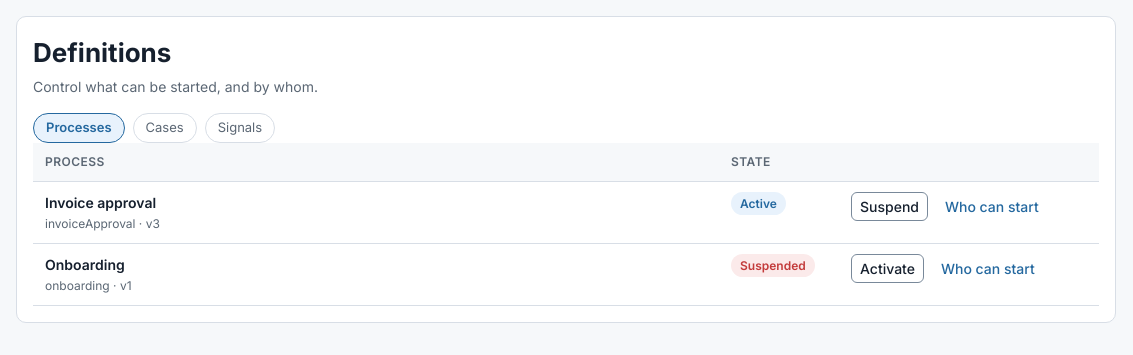
Test: Definitions — cases › offers no suspend control, and says why
Step 1. Click the tab "Cases" → (165, 128), box x1=133 y1=113 x2=197 y2=142
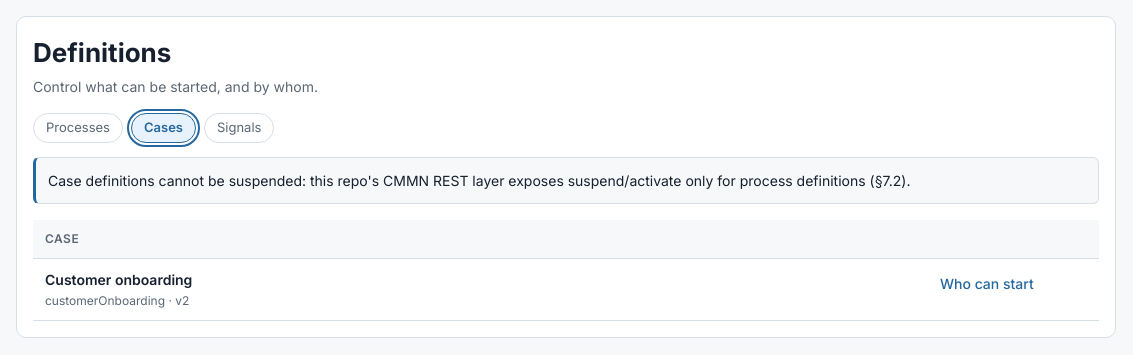
Check: the text "Customer onboarding" is shown, box x1=45 y1=270 x2=192 y2=288
Check: the text "cannot be suspended" is shown, box x1=48 y1=172 x2=910 y2=188
